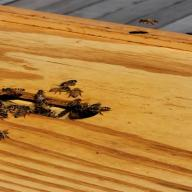Bee: (56, 78, 88, 96), (31, 90, 52, 106), (138, 15, 162, 28)
